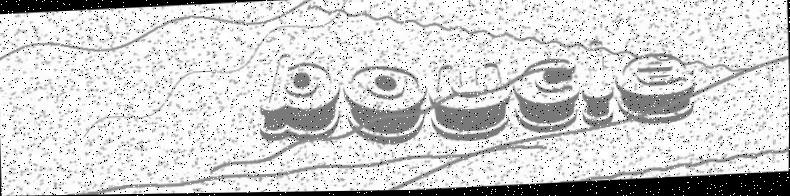b: (258, 47, 344, 148)
c: (511, 55, 587, 135)
e: (615, 50, 704, 131)
i: (577, 38, 619, 130)
o: (342, 57, 433, 139)
u: (427, 52, 512, 144)
